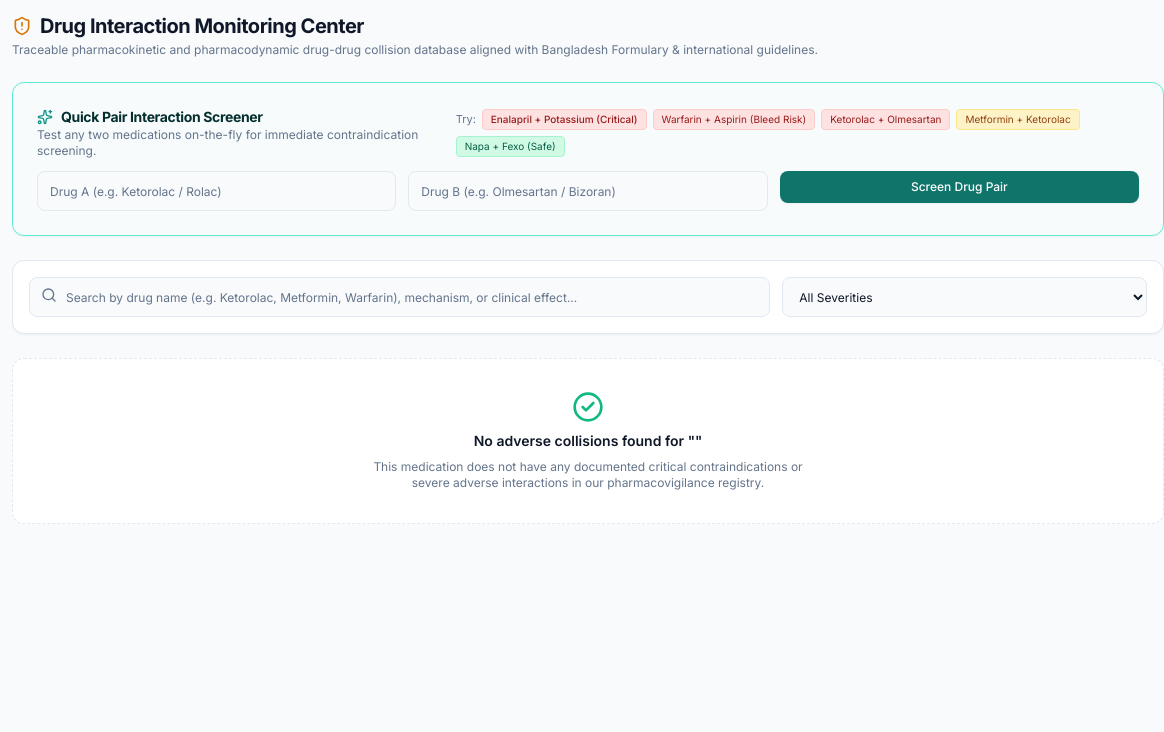
it: DrugInteractionPage › filters interactions by search query
The width and height of the screenshot is (1164, 732).
Step 1. Replace the text in the field with placeholder "Search by drug name" with "Theophylline" → [400, 297], box [29, 277, 770, 317]
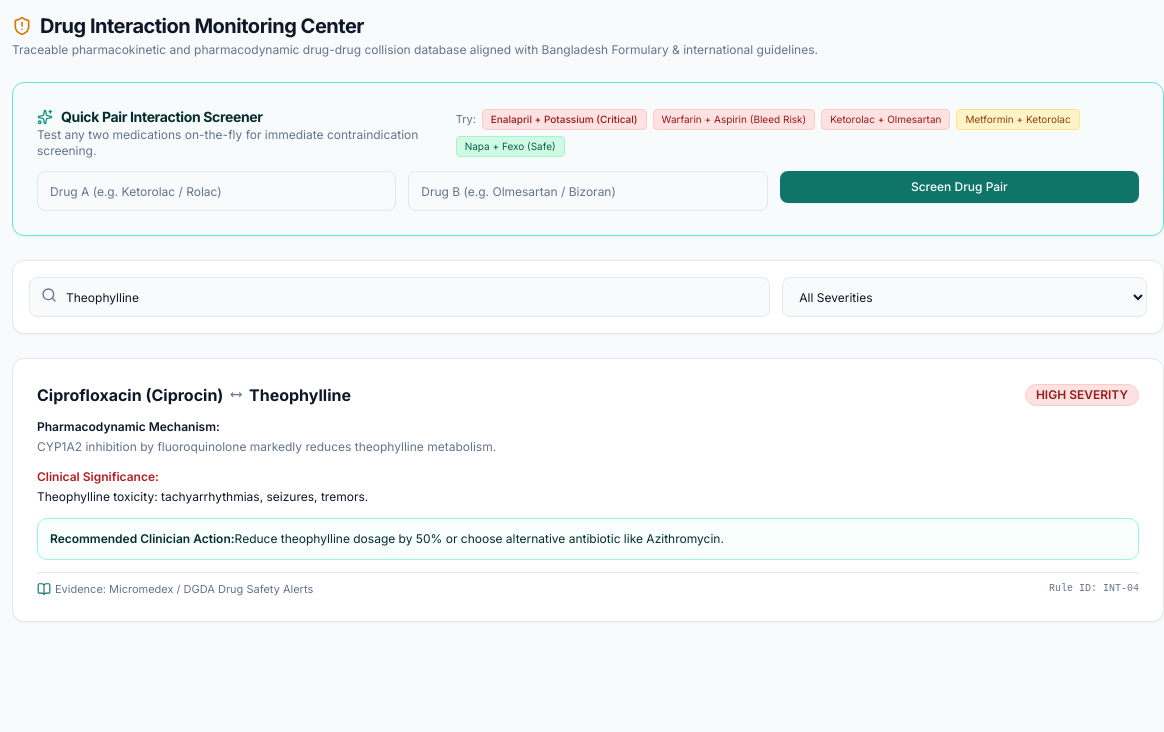
Expected: the text "Ciprofloxacin (Ciprocin)" is shown, [37, 383, 223, 407]
Expected: the text "Theophylline" is shown, [249, 383, 351, 407]
